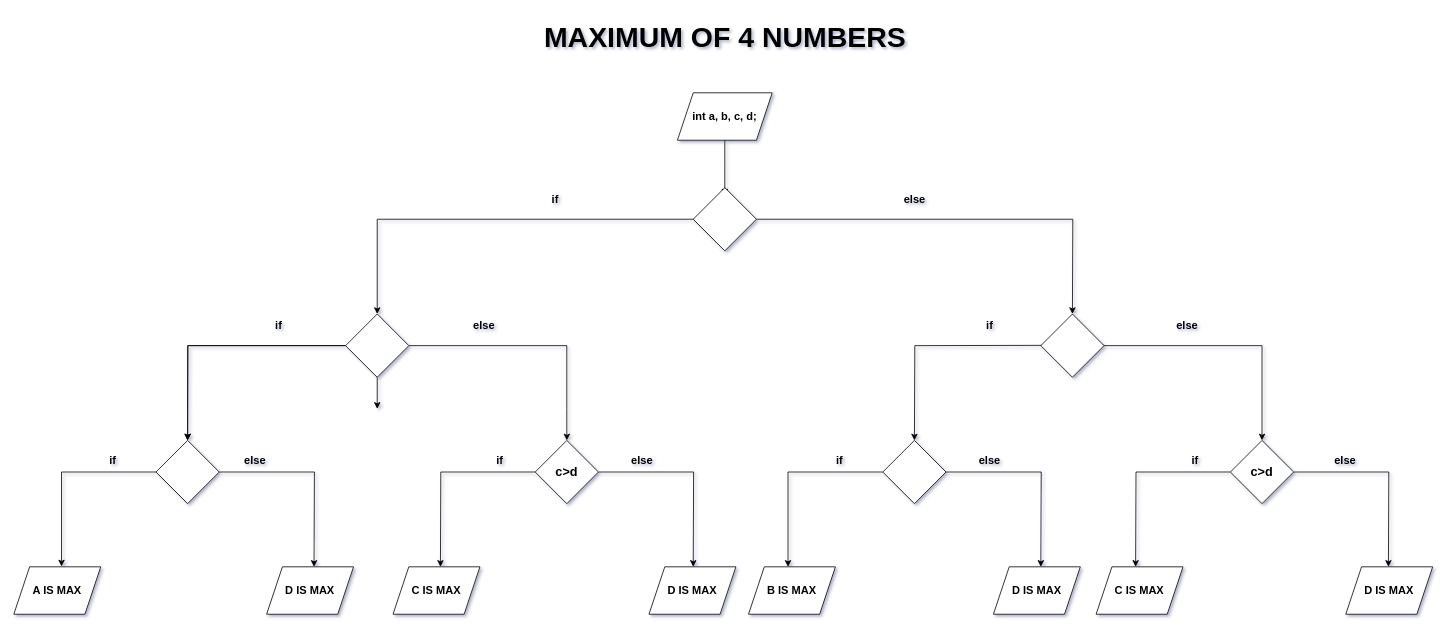
Some shapes in this 1451 by 633 pixel diagram are drawn without their labels. Here are the shapes that lost their labels. From the top down, the box of each, then its label:
(692, 187, 756, 251): a>b
(345, 313, 409, 377): a>c
(1040, 313, 1104, 377): b>c
(155, 440, 219, 504): a>d
(882, 440, 946, 504): b>d
